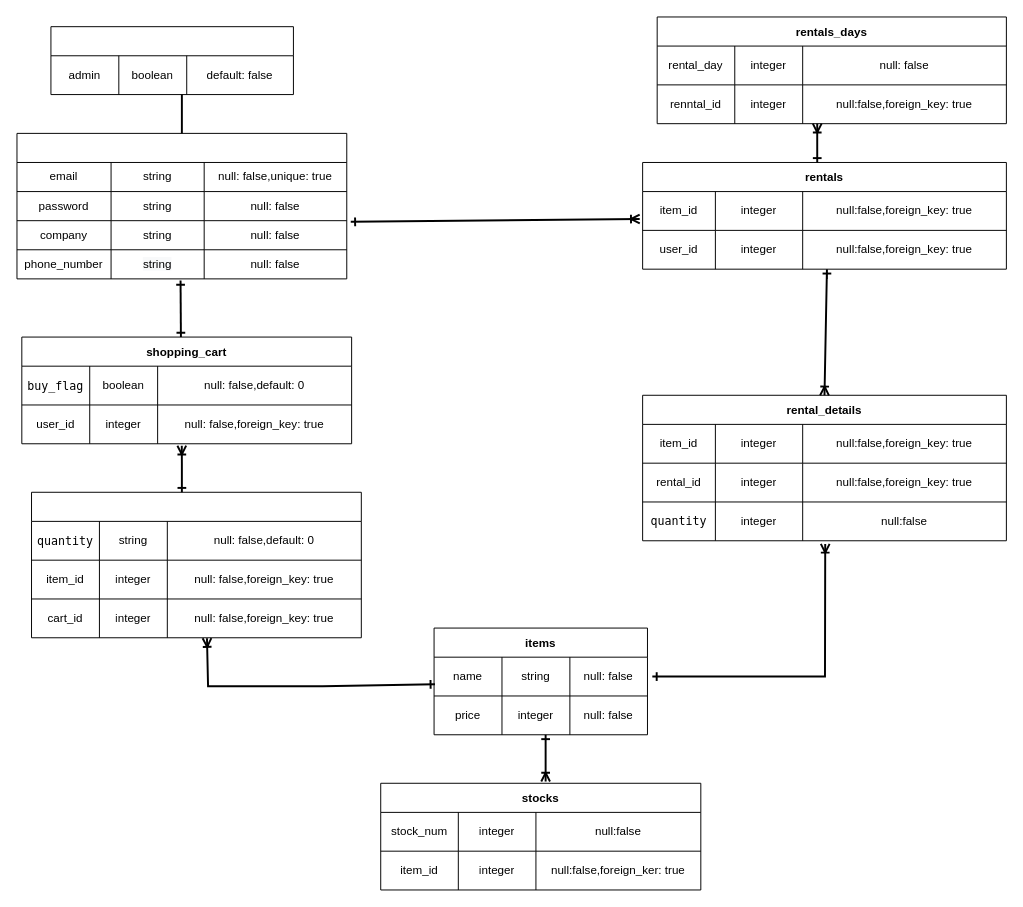
The diagram is 1023 pixels wide and 907 high, and some of its shapes have lost their labels. The box of each missing label's shape, as (x1, y1, x2, y2) in pixels:
cart_items: (31, 491, 361, 638)
user_admin: (50, 26, 293, 95)
users: (16, 132, 347, 279)
